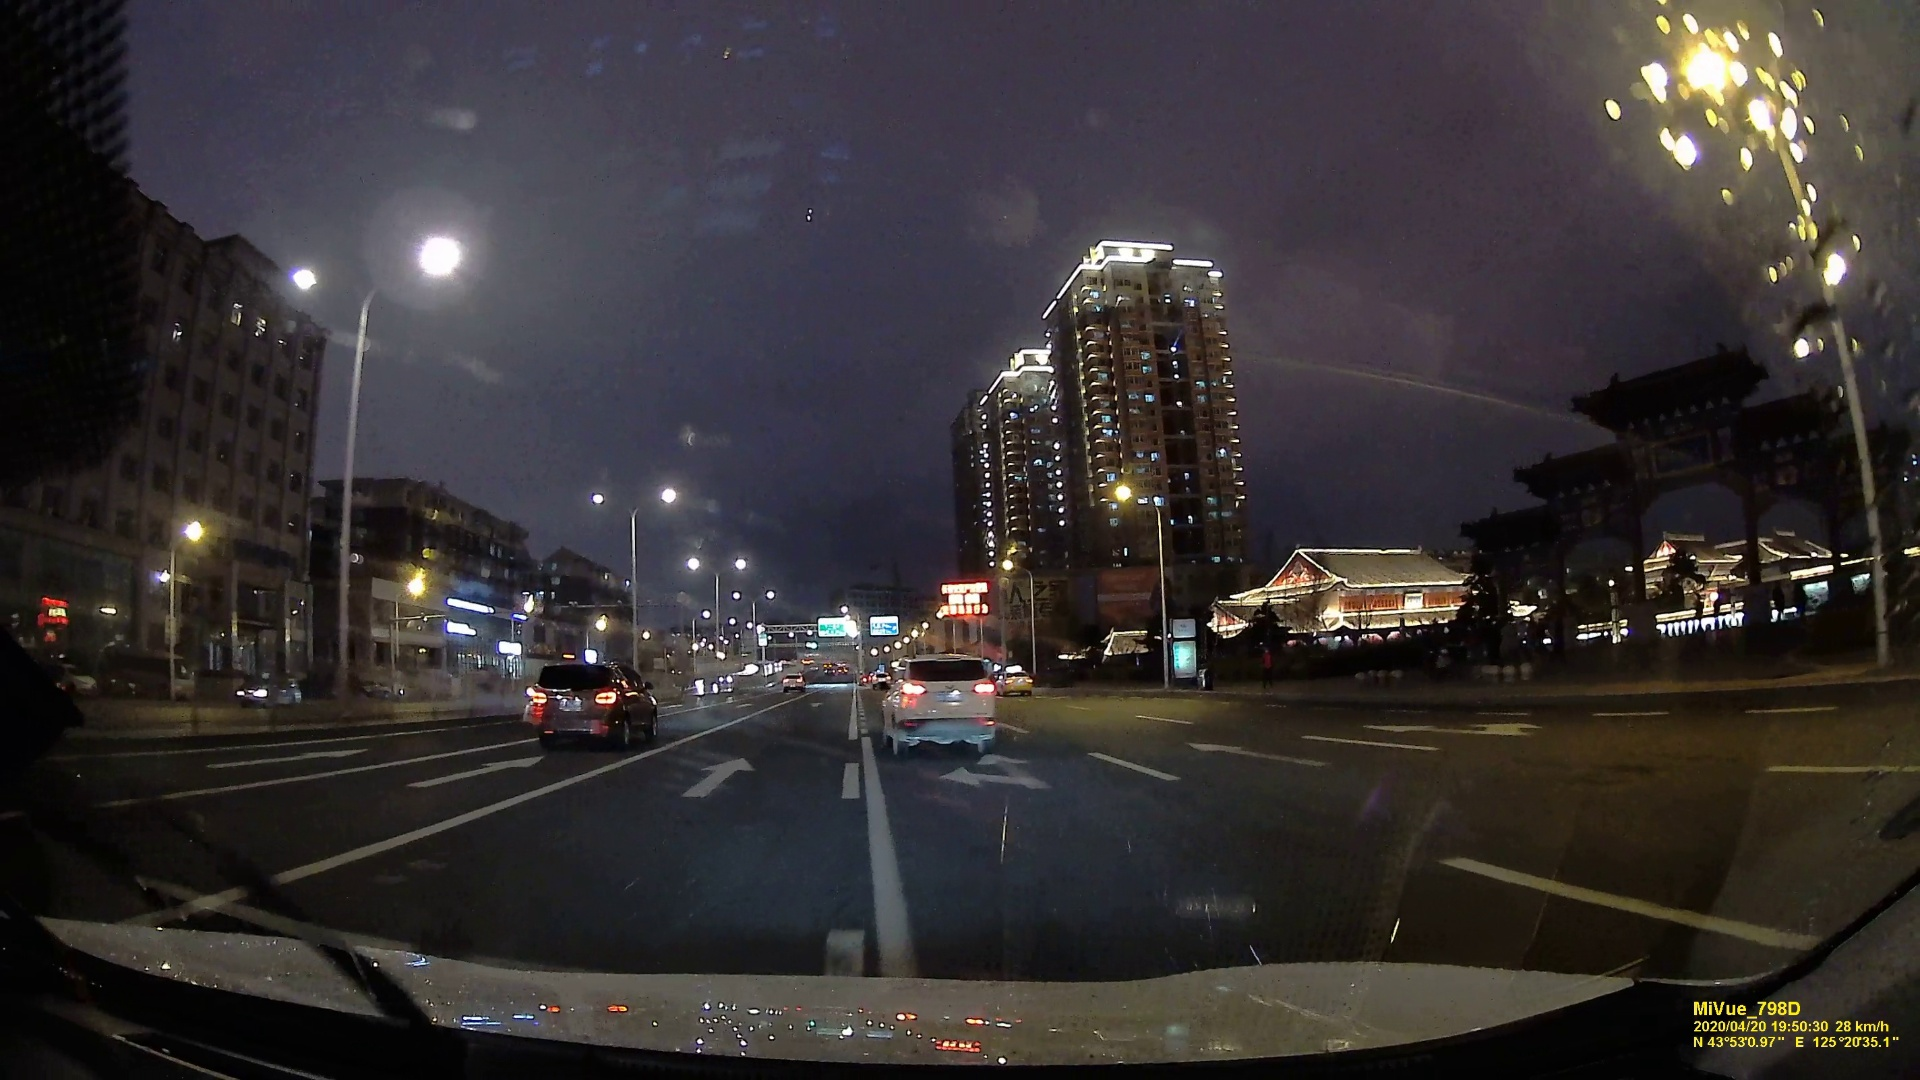traffic_sign: (870, 615, 898, 634), (819, 617, 845, 636)
vehicle: (877, 651, 1000, 758), (520, 661, 658, 752), (993, 669, 1030, 694), (785, 673, 804, 692)
